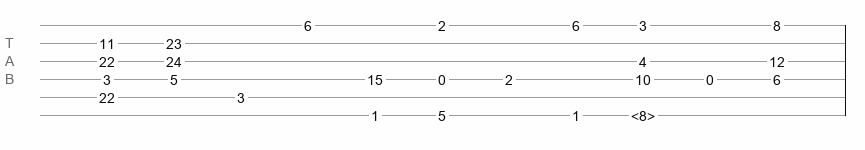0: (438, 72, 446, 82), (706, 72, 714, 82)
1: (371, 108, 379, 118), (572, 108, 580, 118)
10: (635, 72, 651, 82)
11: (99, 36, 115, 46)
12: (769, 54, 785, 64)
15: (367, 72, 383, 82)
2: (438, 18, 446, 28), (505, 72, 513, 82)
22: (99, 90, 115, 100), (99, 54, 115, 64)
23: (166, 36, 182, 46)
24: (166, 54, 182, 64)
3: (103, 72, 111, 82), (237, 90, 245, 100), (639, 18, 647, 28)
4: (639, 54, 647, 64)
5: (170, 72, 178, 82), (438, 108, 446, 118)
6: (304, 18, 312, 28), (572, 18, 580, 28), (773, 72, 781, 82)
8: (773, 18, 781, 28)
harmonic: (631, 108, 655, 118)
